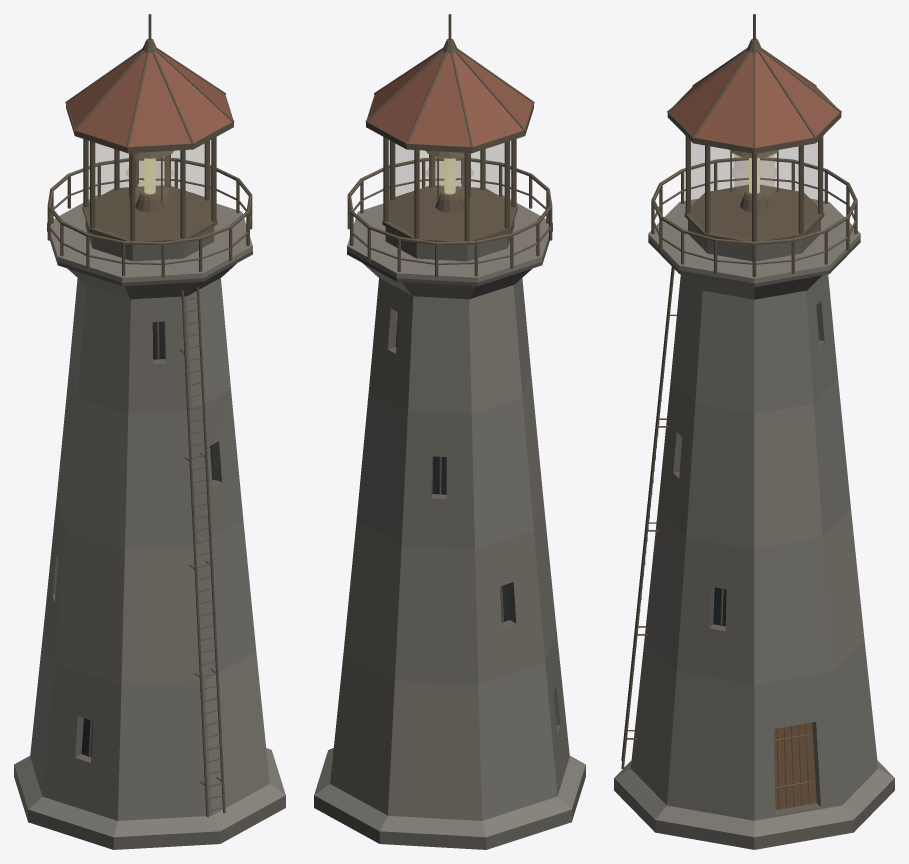
File: lighthouse.glb
3 renders of one model, left to right at view 1: azimuth 30°, elevation 25°; view 2: azimuth 150°, elevation 25°; view 3: azimuth 270°, elevation 25°, orthographic.
Parts seen in each view (by area): view 1: Shaft course 0 facet 5, Shaft course 1 facet 5, Eight pitched roof planes, Stone opening course 0 facet 4, Shaft course 2 facet 5, Shaft course 1 facet 4, Shaft course 2 facet 4, Shaft course 0 facet 6, Shaft course 1 facet 6, Stone opening course 3 facet 5, Gallery stone floor, Bevelled plinth (+21 smaller); view 2: Shaft course 0 facet 2, Shaft course 1 facet 2, Eight pitched roof planes, Shaft course 0 facet 3, Stone opening course 2 facet 2, Stone opening course 1 facet 3, Shaft course 0 facet 1, Shaft course 2 facet 3, Shaft course 3 facet 2, Shaft course 1 facet 1, Shaft course 2 facet 1, Gallery stone floor (+19 smaller); view 3: Shaft course 0 facet 7, Shaft course 1 facet 0, Eight pitched roof planes, Stone opening course 1 facet 7, Shaft course 2 facet 0, Shaft course 2 facet 7, Stone opening course 0 facet 0, Shaft course 3 facet 0, Shaft course 3 facet 7, Gallery stone floor, Bevelled plinth, Shaft course 0 facet 1 (+21 smaller).
Part boxes in pixels (box(x1,y1,x2,y2)): Shaft course 0 facet 5: box(118, 680, 211, 820); Shaft course 1 facet 5: box(121, 545, 204, 684); Eight pitched roof planes: box(67, 50, 232, 146); Stone opening course 0 facet 4: box(42, 663, 121, 820); Shaft course 2 facet 5: box(125, 410, 198, 549); Shaft course 1 facet 4: box(54, 530, 124, 684); Shaft course 2 facet 4: box(66, 397, 128, 549); Shaft course 0 facet 6: box(205, 652, 269, 815); Shaft course 1 facet 6: box(198, 521, 256, 680); Stone opening course 3 facet 5: box(128, 296, 191, 413); Gallery stone floor: box(47, 195, 252, 282); Bevelled plinth: box(14, 748, 285, 837); Shaft course 0 facet 2: box(388, 680, 481, 820); Shaft course 1 facet 2: box(395, 545, 478, 684); Eight pitched roof planes: box(367, 50, 532, 146); Shaft course 0 facet 3: box(478, 663, 557, 820); Stone opening course 2 facet 2: box(401, 410, 474, 549); Stone opening course 1 facet 3: box(475, 530, 545, 684); Shaft course 0 facet 1: box(330, 652, 394, 815); Shaft course 2 facet 3: box(471, 397, 533, 549); Shaft course 3 facet 2: box(408, 296, 471, 413); Shaft course 1 facet 1: box(343, 521, 401, 680); Shaft course 2 facet 1: box(356, 389, 407, 544); Gallery stone floor: box(347, 195, 552, 282); Shaft course 0 facet 7: box(667, 671, 754, 820); Shaft course 1 facet 0: box(754, 537, 831, 684); Eight pitched roof planes: box(669, 51, 839, 147); Stone opening course 1 facet 7: box(677, 537, 754, 684); Shaft course 2 facet 0: box(754, 404, 822, 549); Shaft course 2 facet 7: box(686, 404, 754, 549); Stone opening course 0 facet 0: box(754, 671, 841, 820); Shaft course 3 facet 0: box(754, 290, 813, 413); Shaft course 3 facet 7: box(695, 290, 754, 413); Gallery stone floor: box(648, 198, 860, 283); Bevelled plinth: box(614, 760, 894, 837); Shaft course 0 facet 1: box(832, 639, 878, 804).
Bounding box in the file's own units: 8.03 × 24.65 × 8.03.
